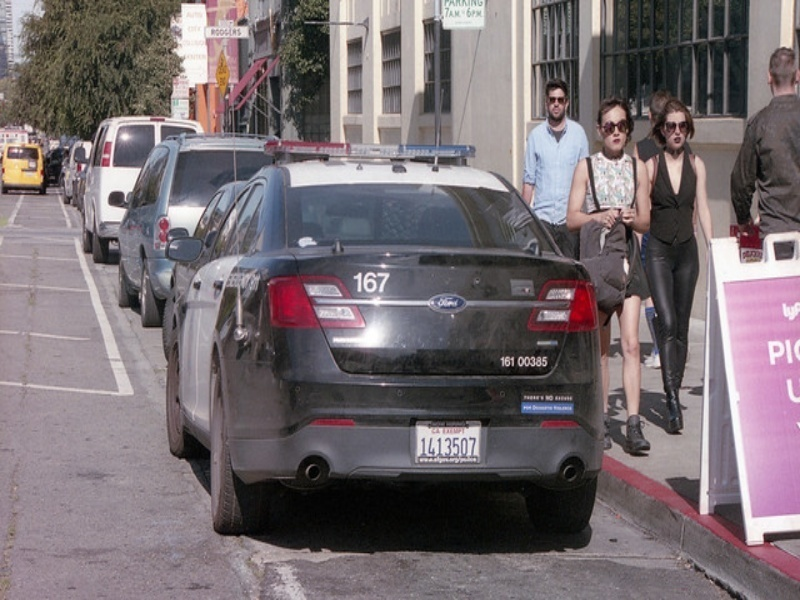policecar: (211, 118, 610, 542)
